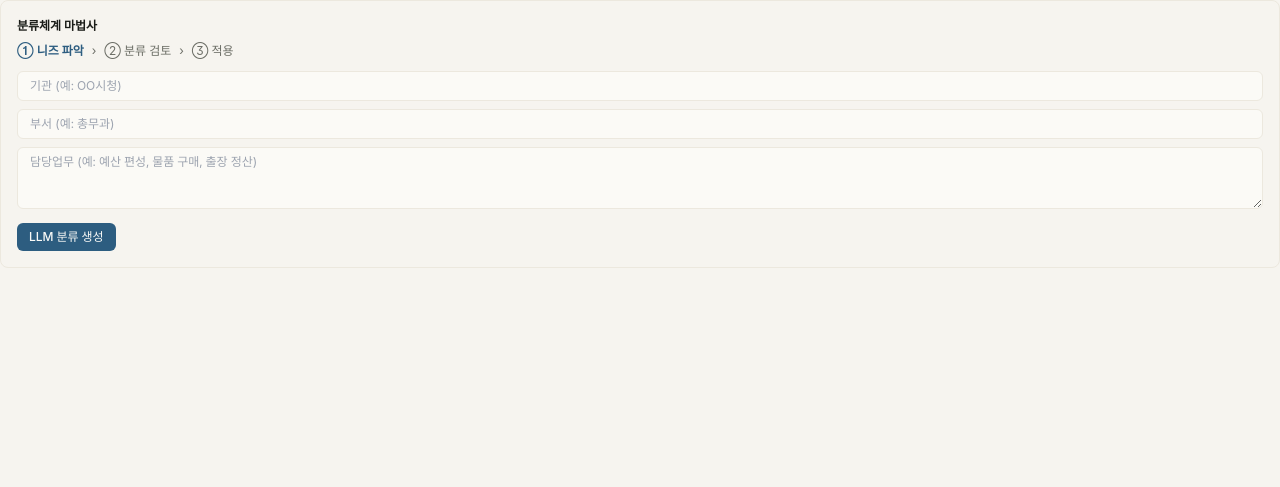
Test: TaxonomyWizard — 3단계 진행 › 입력 → 후보 표시 → 선택 적용 시 applyTaxonomy 인자가 선택분만 반영된다
Type "OO시청" into the field with placeholder "기관 (예: OO시청)" at (640, 86), box x1=17 y1=71 x2=1263 y2=101
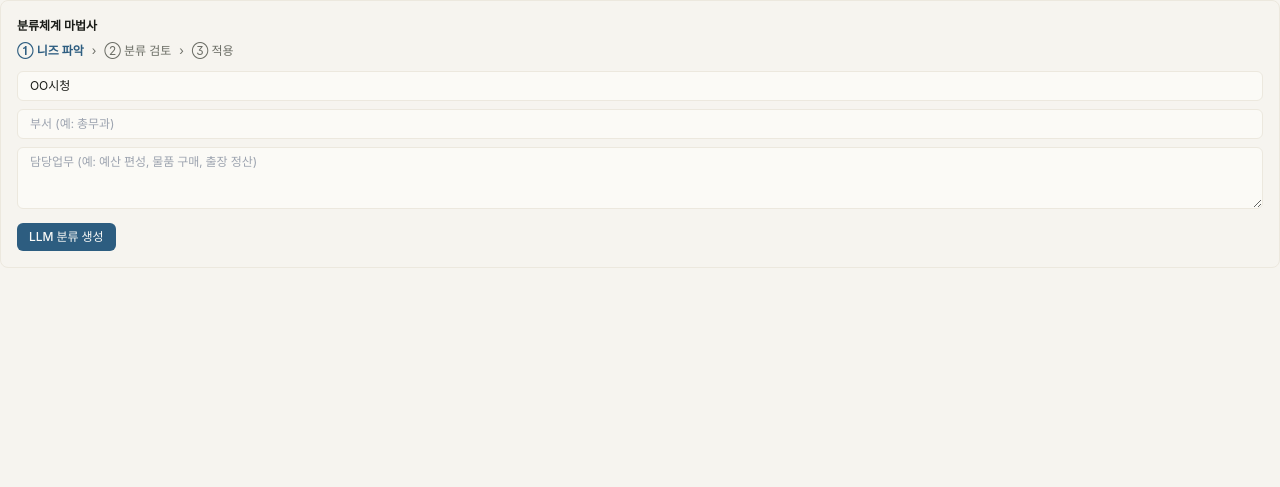
Type "총무과" into the field with placeholder "부서 (예: 총무과)" at (640, 124), box x1=17 y1=109 x2=1263 y2=139
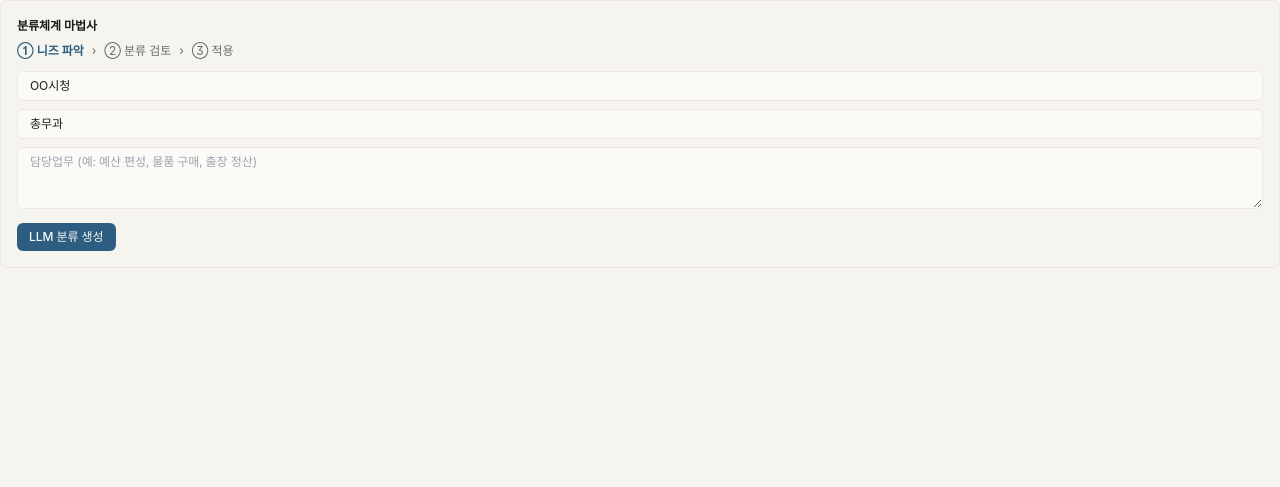
Type "예산 편성, 출장 정산" into the text box with placeholder "담당업무 (예: 예산 편성, 물품 구매, 출장 정산)" at (640, 178), box x1=17 y1=147 x2=1263 y2=209
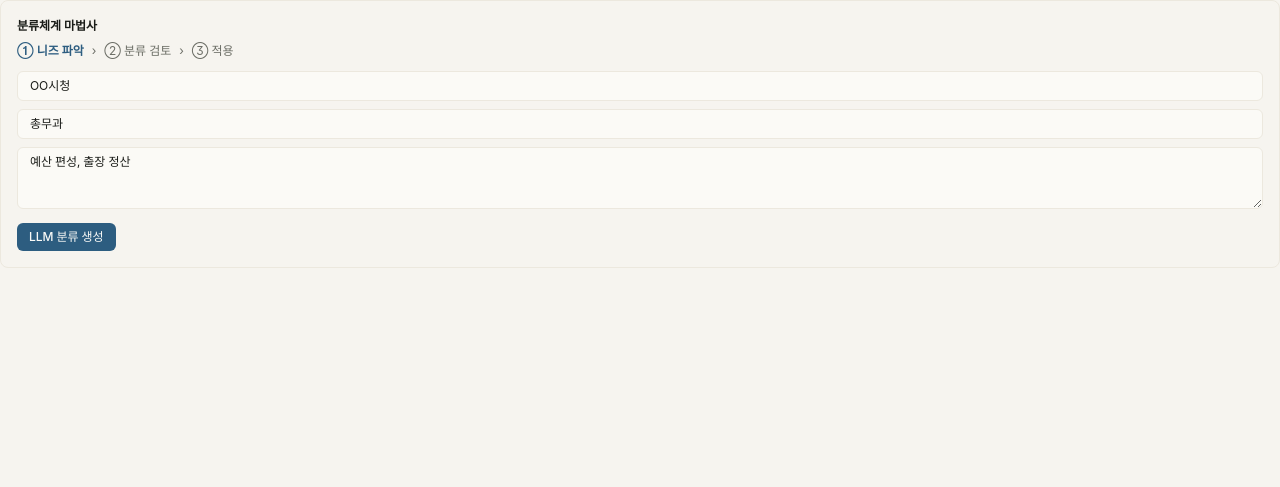
Click the button "LLM 분류 생성" at (66, 237), box x1=17 y1=223 x2=116 y2=251
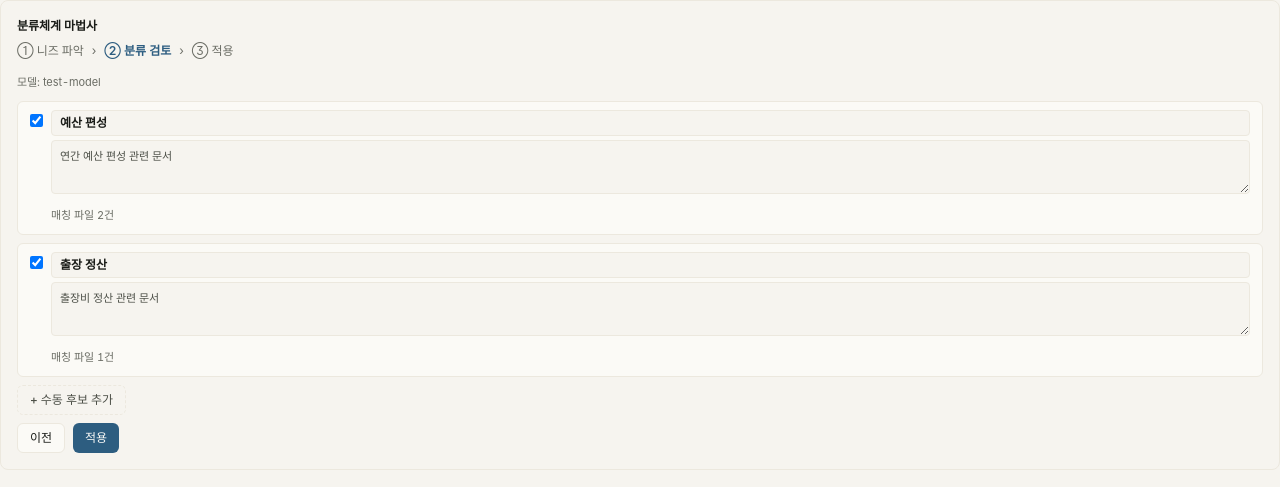
expect the 1st field showing "예산 편성" is shown: met, box x1=51 y1=110 x2=1250 y2=136
expect the 2nd field showing "출장 정산" is shown: met, box x1=51 y1=252 x2=1250 y2=278
Click the checkbox labelled "매칭 파일 1건" at (36, 262), box x1=30 y1=256 x2=43 y2=269
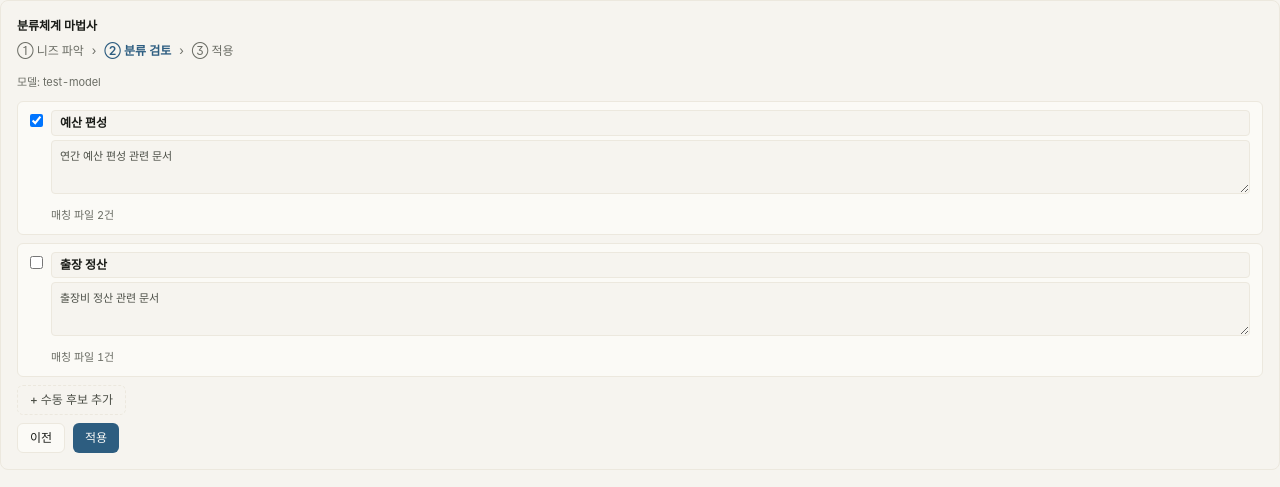
Click the button "적용" at (96, 438), box x1=73 y1=423 x2=119 y2=453
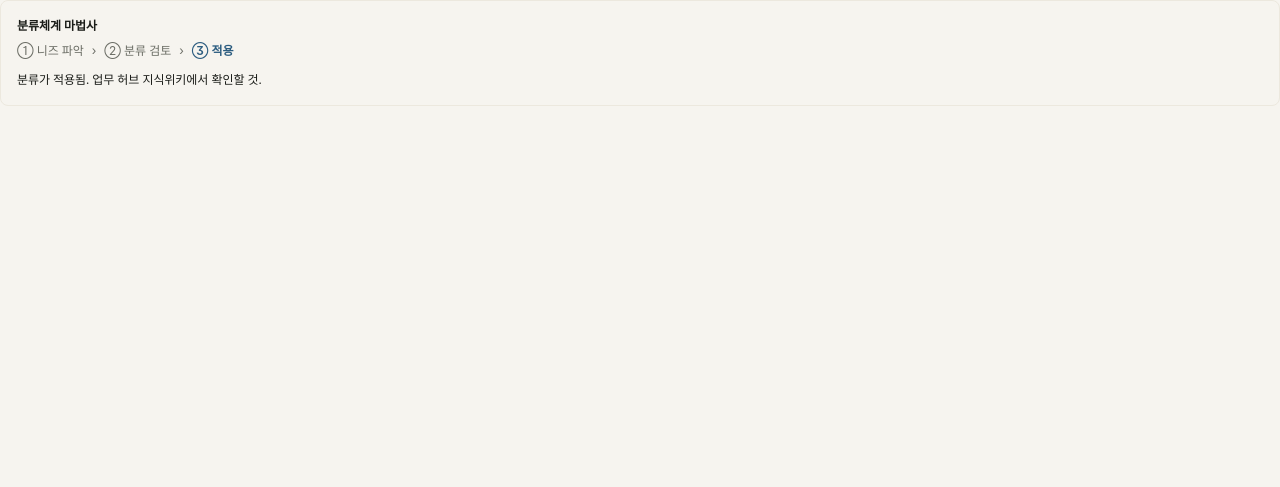
expect the text "분류가 적용됨. 업무 허브 지식위키에서 확인할 것." is shown: met, box x1=17 y1=72 x2=262 y2=87
